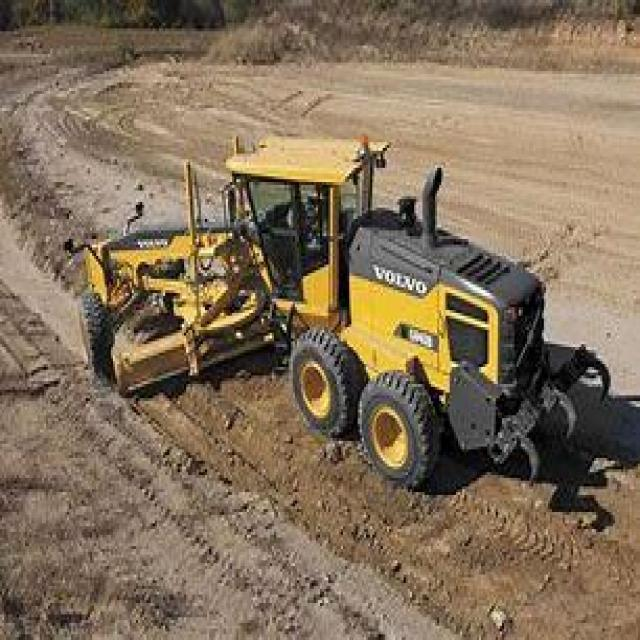Grader: (57, 119, 600, 532)
